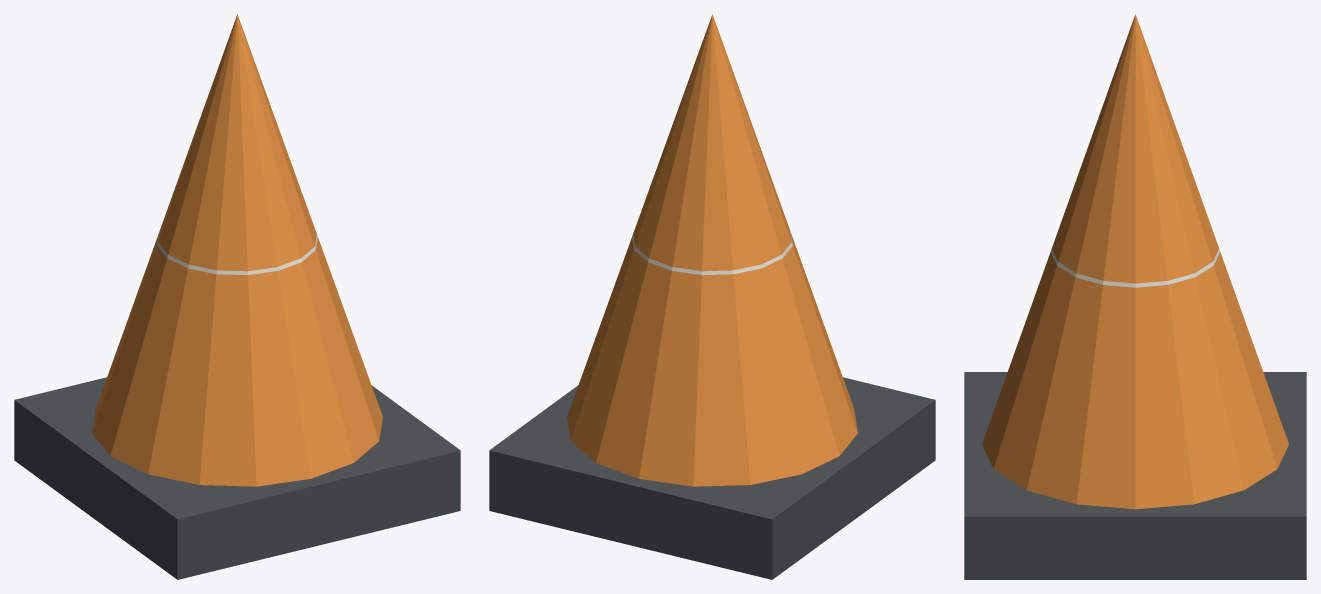
Rendered from road_cone.gltf.
3 views of the same model, side by side, from view 1: azimuth 30°, elevation 25°; view 2: azimuth 150°, elevation 25°; view 3: azimuth 270°, elevation 25° (orthographic). The views are drawn at different scales.
Visible parts, largest first — view 1: TrafficCone, Foot, ReflectiveBand; view 2: TrafficCone, Foot, ReflectiveBand; view 3: TrafficCone, Foot, ReflectiveBand.
Part boxes in pixels (x1,y1,x2,y2): TrafficCone: (92, 14, 382, 486); Foot: (14, 377, 460, 579); ReflectiveBand: (157, 229, 317, 275); TrafficCone: (567, 14, 857, 486); Foot: (489, 377, 935, 579); ReflectiveBand: (632, 229, 792, 275); TrafficCone: (982, 14, 1288, 509); Foot: (964, 372, 1306, 579); ReflectiveBand: (1050, 248, 1220, 287).
Bounding box in the file's own units: 0.49 × 0.78 × 0.49.
